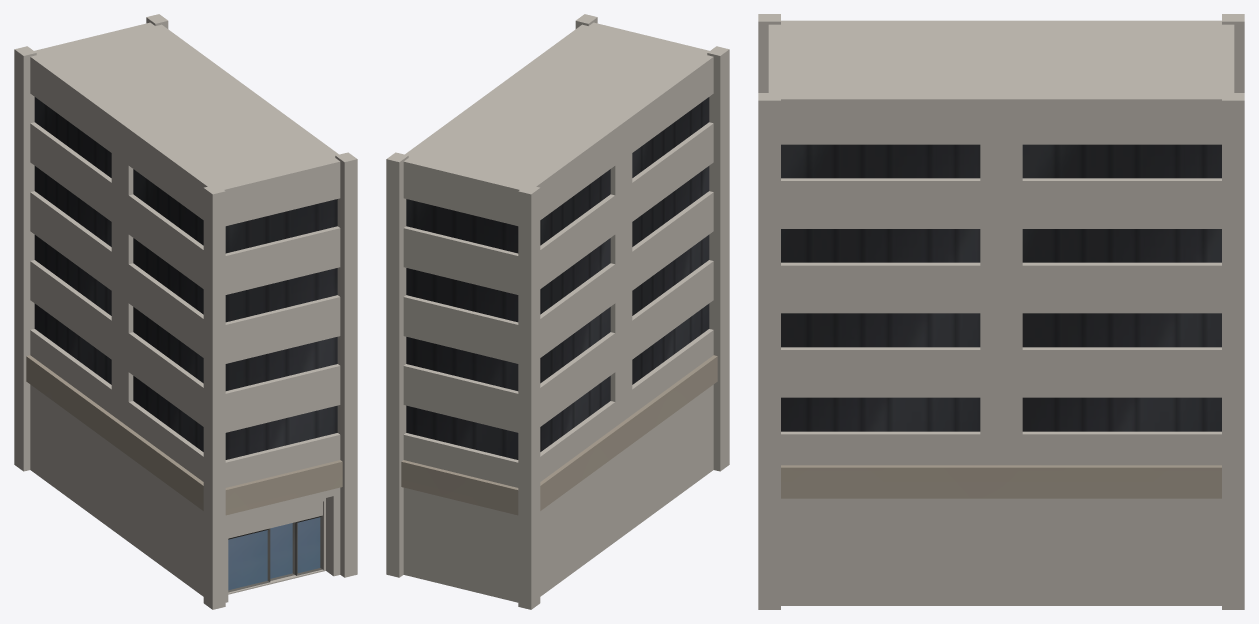
Rendered from Bld_Building_DB.fbx.
The picture shows the model from 3 angles, left to right: view 1: azimuth 30°, elevation 25°; view 2: azimuth 150°, elevation 25°; view 3: azimuth 270°, elevation 25°; orthographic projection. The views are drawn at different scales.
Parts seen in each view (by area): view 1: Bld_Building_DB; view 2: Bld_Building_DB; view 3: Bld_Building_DB.
Part boxes in pixels (x1,y1,x2,y2): Bld_Building_DB: [14, 14, 357, 609]; Bld_Building_DB: [386, 14, 729, 609]; Bld_Building_DB: [758, 14, 1244, 609].
Size of the model in its own units: 660 by 1810 by 1566.
